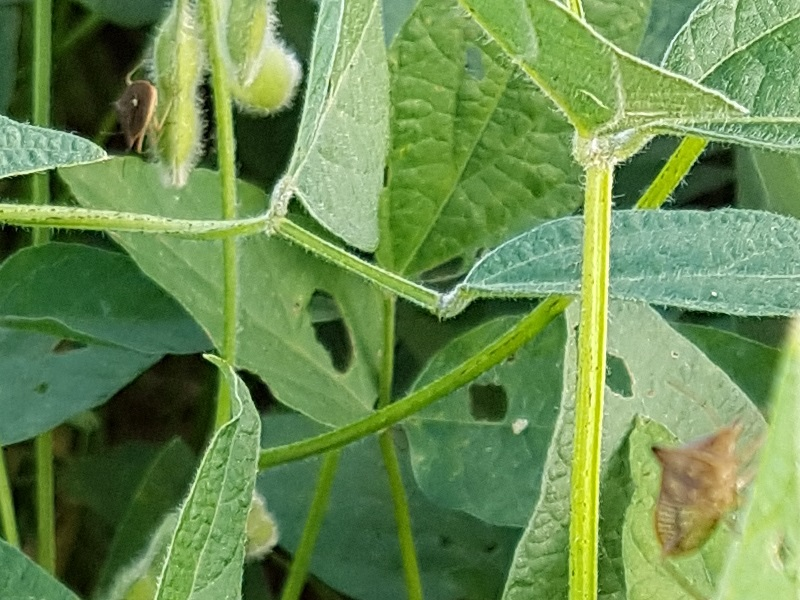Euschistus_heros_adulto: (605, 404, 784, 600), (90, 56, 188, 165)
